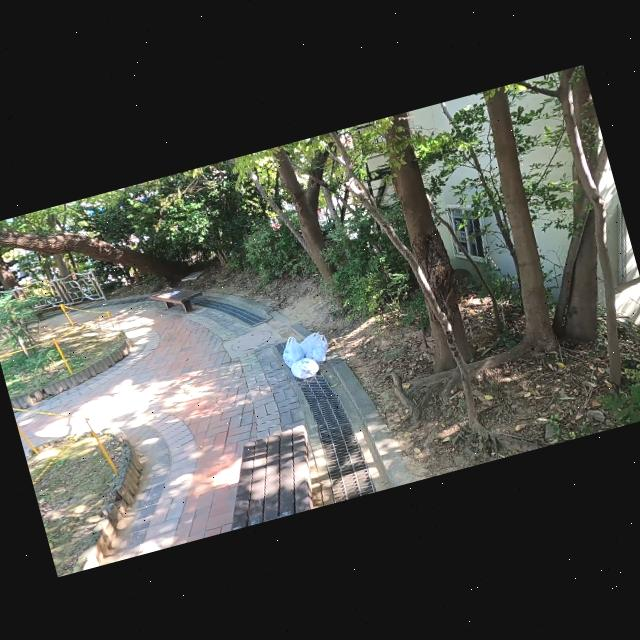trash: (276, 332, 306, 367), (288, 355, 320, 381), (306, 332, 331, 364), (294, 330, 322, 358)
